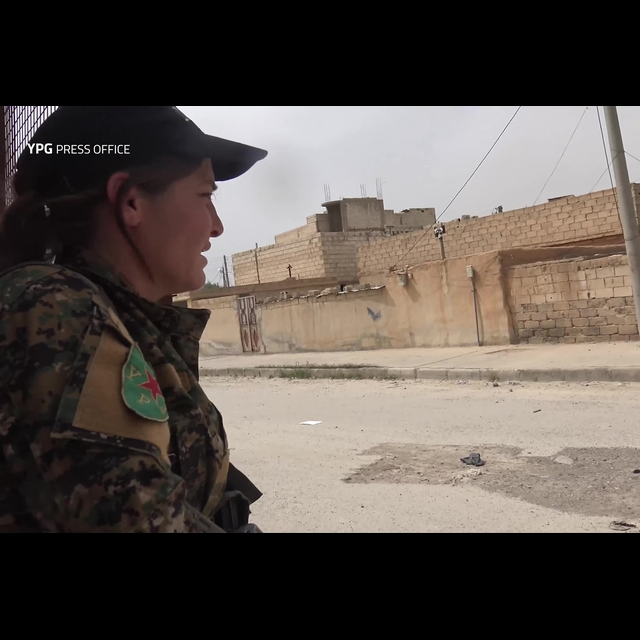YPJ: (115, 343, 179, 427)
